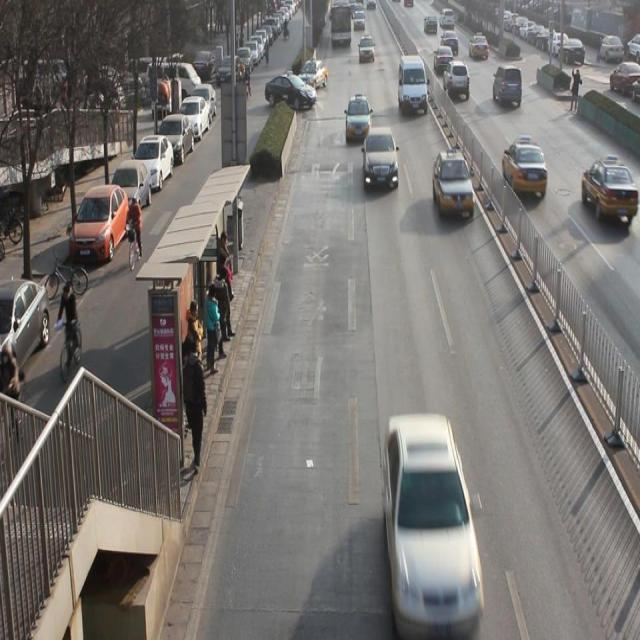car: (382, 416, 484, 622), (583, 156, 640, 229), (434, 150, 476, 221), (502, 138, 548, 196), (363, 128, 399, 192), (492, 66, 526, 111), (344, 94, 372, 137), (446, 60, 470, 98), (304, 55, 327, 91), (471, 30, 491, 62), (432, 45, 452, 71), (360, 35, 375, 63), (442, 31, 459, 54)
truck: (396, 56, 428, 116)
